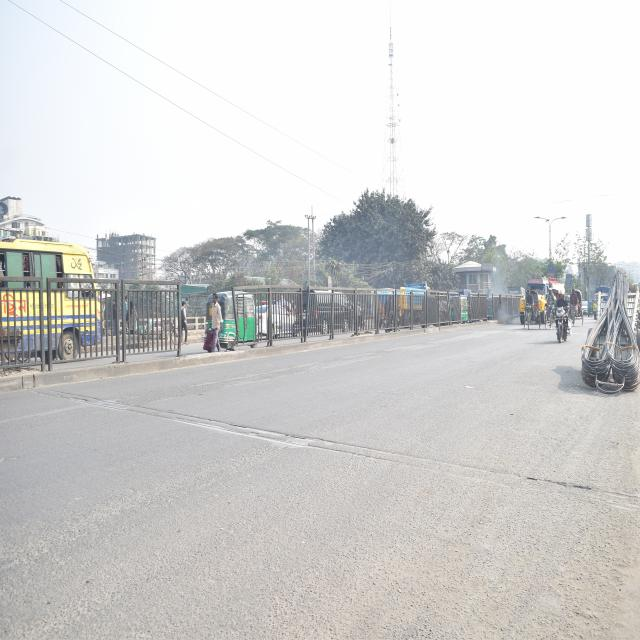bus: (0, 222, 108, 366)
motorbike: (551, 288, 573, 350)
truck: (514, 271, 554, 332)
